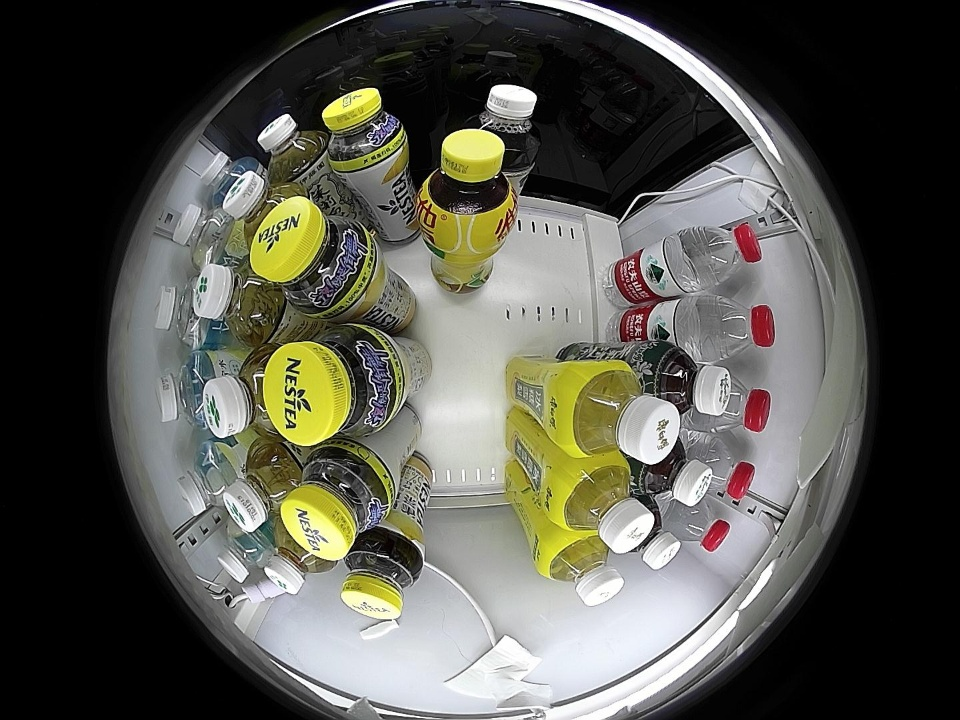baicha: (193, 264, 284, 345), (222, 440, 301, 533), (204, 345, 280, 439), (223, 171, 305, 242), (258, 113, 329, 186), (263, 529, 334, 595)
bingtangxueli: (559, 360, 681, 463), (551, 457, 654, 553), (539, 533, 624, 606)
chacui: (262, 325, 401, 444), (251, 196, 379, 317), (281, 443, 396, 559), (322, 88, 409, 175), (340, 533, 423, 620)
moliqingcha: (649, 348, 732, 416), (634, 438, 714, 507), (630, 500, 681, 570)
nongfushanquan: (702, 294, 776, 361), (689, 222, 763, 288), (708, 370, 772, 434), (698, 437, 756, 503), (670, 498, 731, 554)
qinningshui: (156, 352, 220, 430), (176, 441, 241, 515), (172, 203, 240, 267), (155, 279, 215, 350), (198, 151, 261, 205), (217, 525, 273, 584)
weitaningmeng-bottle: (418, 129, 518, 233)
wulongcha: (455, 81, 540, 162)
